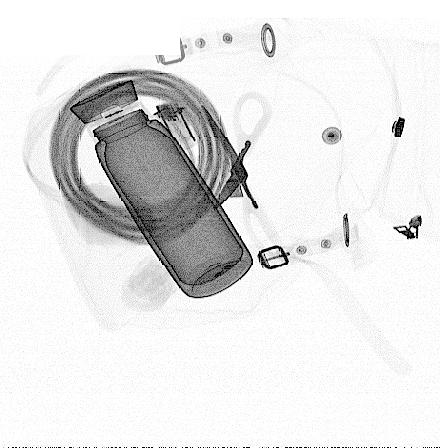Scissors: (199, 90, 288, 262)
